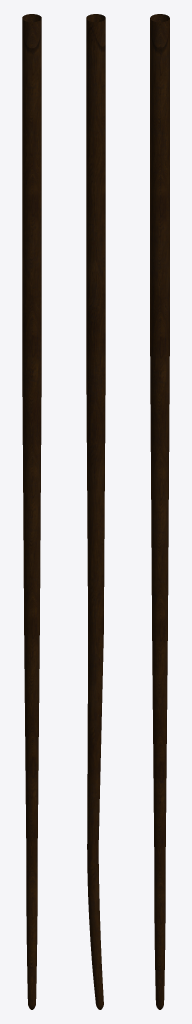
File: wm_elven_spear_shaft.fbx
The picture shows the model from 3 angles, left to right: view 1: azimuth 90°, elevation 25°; view 2: azimuth 150°, elevation 25°; view 3: azimuth 270°, elevation 25°; orthographic projection.
Visible parts, largest first — view 1: wm_elven_spear_shaft; view 2: wm_elven_spear_shaft; view 3: wm_elven_spear_shaft.
Boxes of the visible parts, box(x1,y1,x2,y2) form: wm_elven_spear_shaft: box(22, 14, 41, 1009); wm_elven_spear_shaft: box(86, 14, 105, 1009); wm_elven_spear_shaft: box(150, 14, 169, 1009).
Bounding box in the file's own units: 0.0268 × 0.0268 × 1.49.
Materials: 1 (1 with a texture image).
